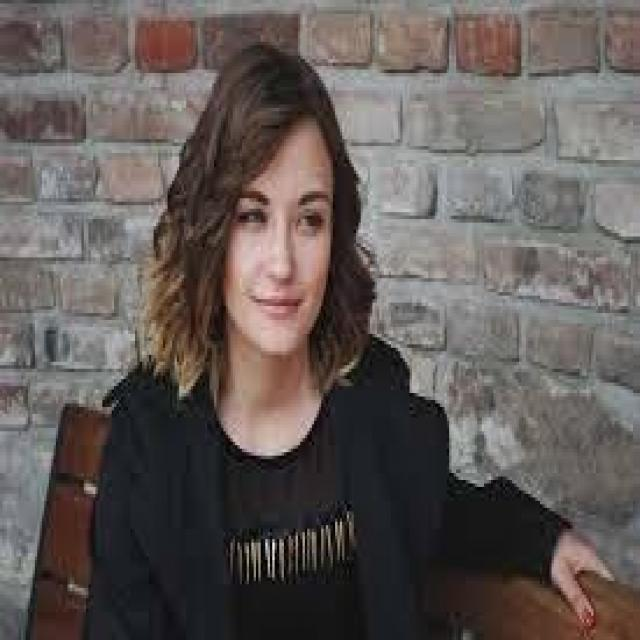person: (72, 24, 538, 636)
